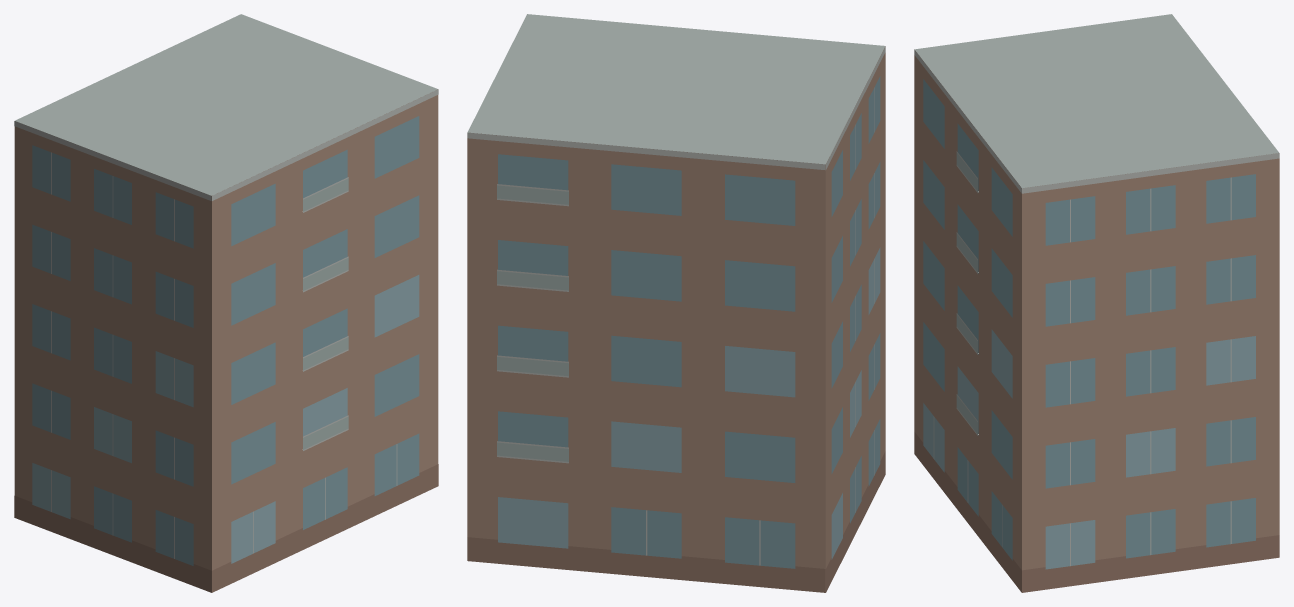
File: survey-upis-32624109.glb
3 renders of one model, left to right at view 1: azimuth 30°, elevation 25°; view 2: azimuth 150°, elevation 25°; view 3: azimuth 270°, elevation 25°, orthographic. The views are drawn at different scales.
Parts seen in each view (by area): view 1: survey-upis-32624109.tmp; view 2: survey-upis-32624109.tmp; view 3: survey-upis-32624109.tmp.
Boxes of the visible parts, left/top/right/bottom form: survey-upis-32624109.tmp: left=14, top=14, right=438, bottom=592; survey-upis-32624109.tmp: left=467, top=14, right=885, bottom=592; survey-upis-32624109.tmp: left=914, top=14, right=1279, bottom=592.
Size of the model in its own units: 16.54 by 17.9 by 14.65.
